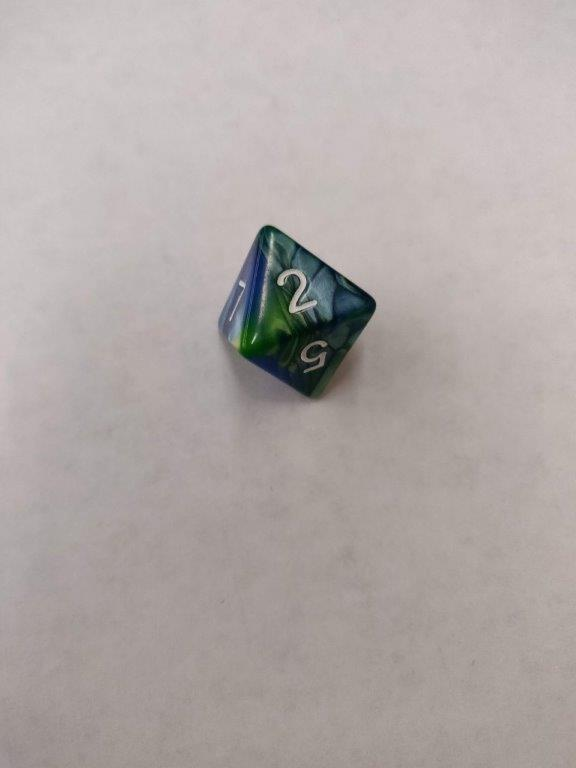d8-2: (217, 226, 376, 397)
